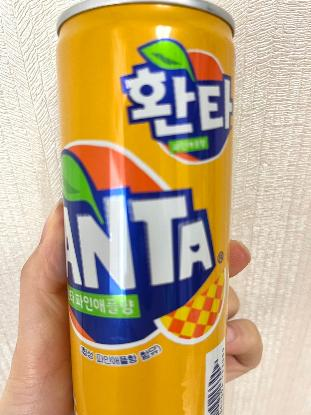Can: (54, 0, 238, 415)
